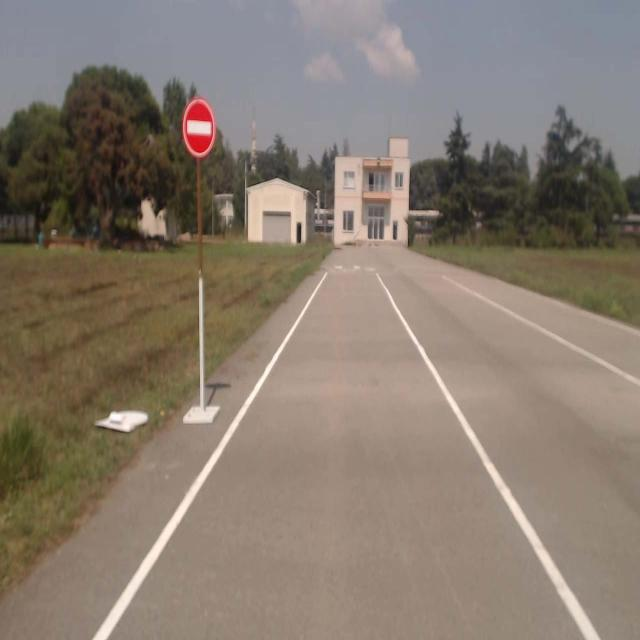girisyok: (182, 98, 216, 157)
